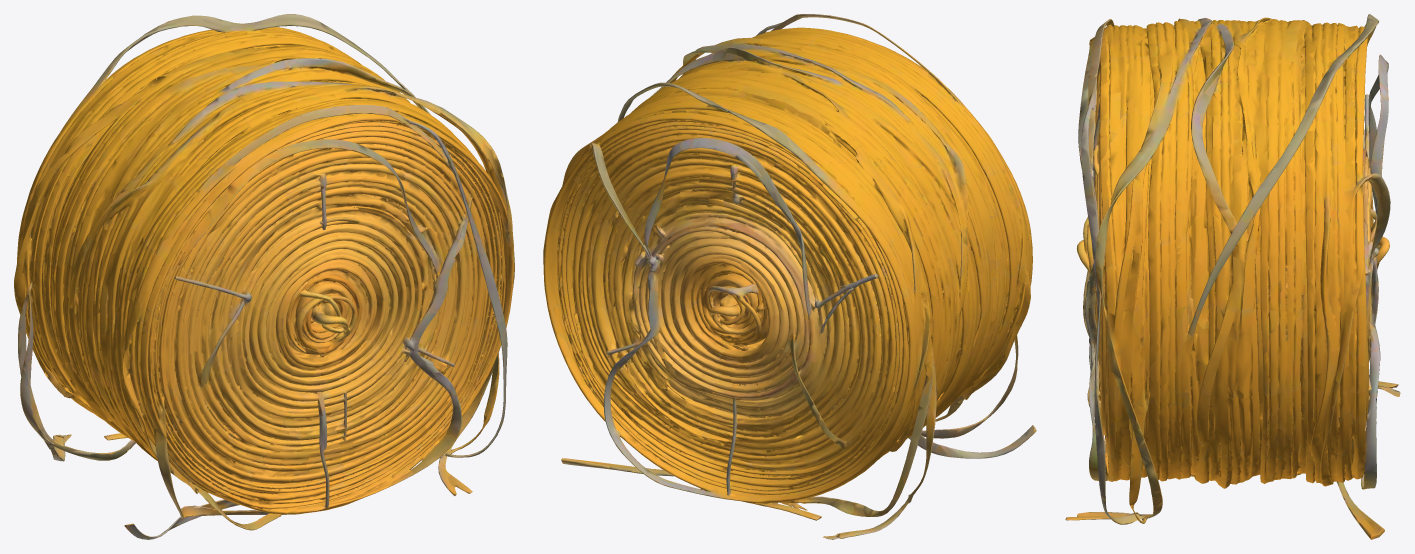
File: Meshy_AI_A_large_cylindrical_r_0823155333_texture-optimized.glb
3 renders of one model, left to right at view 1: azimuth 30°, elevation 25°; view 2: azimuth 150°, elevation 25°; view 3: azimuth 270°, elevation 25°, orthographic. The views are drawn at different scales.
Visible parts, largest first — view 1: mesh_node; view 2: mesh_node; view 3: mesh_node.
Boxes of the visible parts, x1=… form: mesh_node: x1=14, y1=14, x2=514, y2=539; mesh_node: x1=543, y1=14, x2=1036, y2=539; mesh_node: x1=1065, y1=14, x2=1400, y2=539.
Bounding box in the file's own units: 1.9 × 1.87 × 1.32.
1 material, 1 textured.
